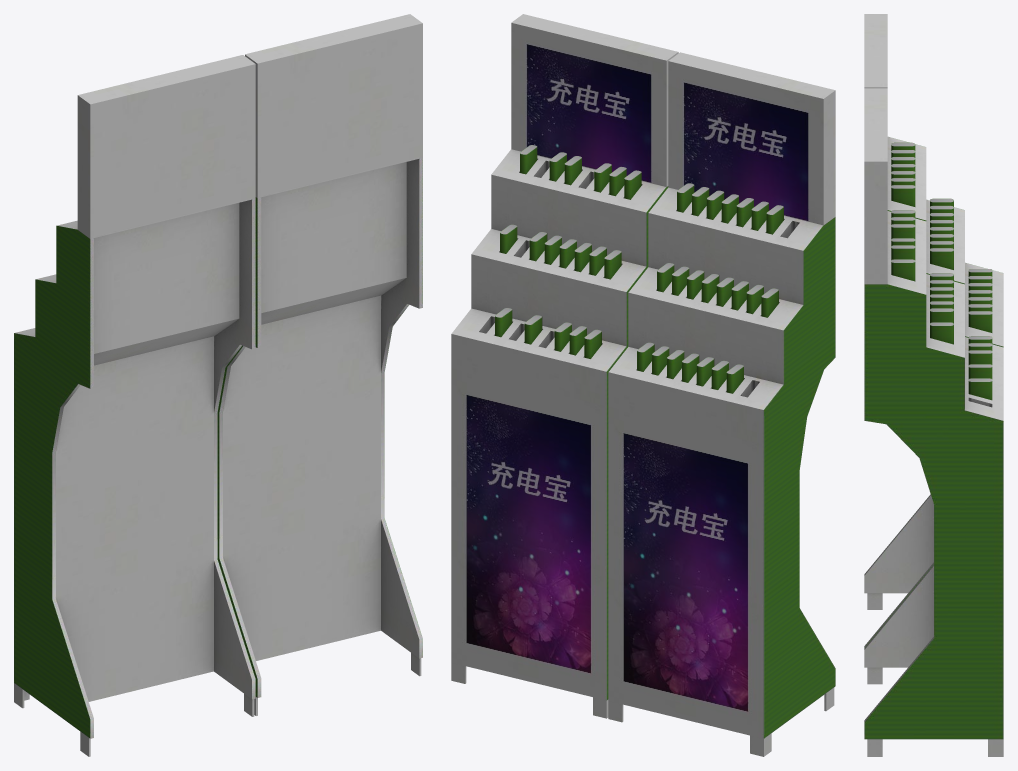
3 views of the same model, side by side, from view 1: azimuth 30°, elevation 25°; view 2: azimuth 150°, elevation 25°; view 3: azimuth 270°, elevation 25° (orthographic). The views are drawn at different scales.
Parts seen in each view (by area): view 1: 充电宝租借; view 2: 充电宝租借; view 3: 充电宝租借.
Part boxes in pixels (left/top/right/bottom): 充电宝租借: left=14, top=14, right=422, bottom=756; 充电宝租借: left=451, top=14, right=835, bottom=756; 充电宝租借: left=864, top=14, right=1003, bottom=756.
Bounding box in the file's own units: 0.905 × 1.7 × 0.36.
Materials: 1 (1 with a texture image).
